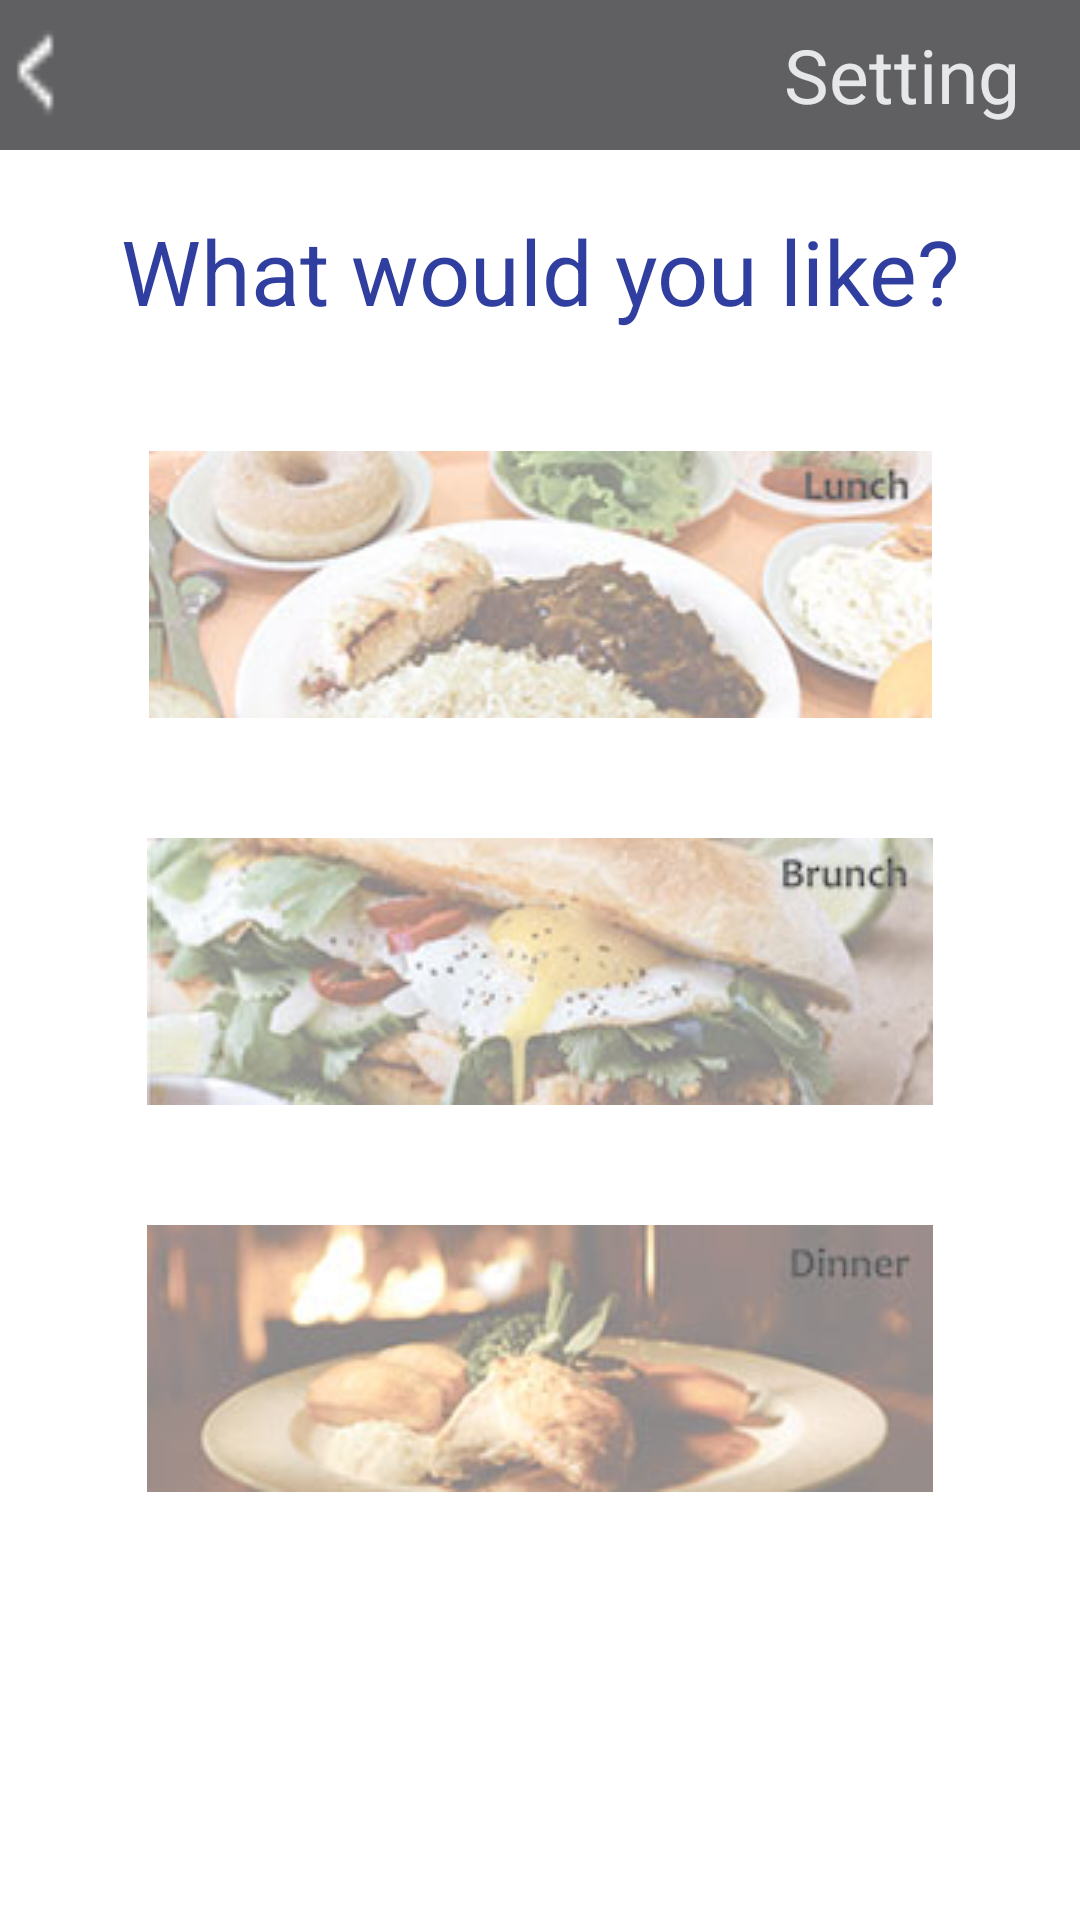

Screen size 1080w x 1920h. Icon name, then its box in pixels as (x1, y1, x2, y2):
backicon: (17, 34, 54, 112)
